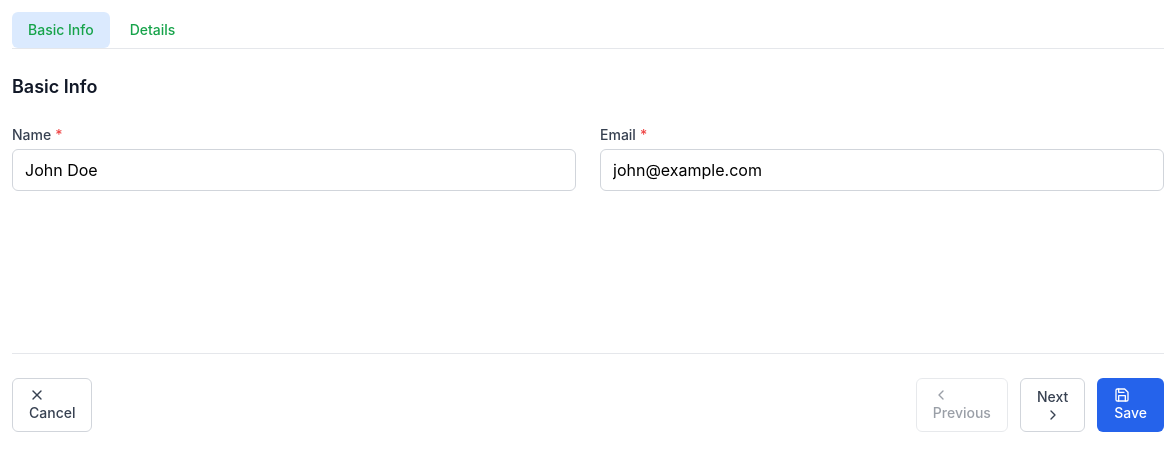
Scenario: TabbedForm › prevents navigation to next tab if current tab has validation errors
Clear the field showing "John Doe" at (294,170), box [12,149,576,191]
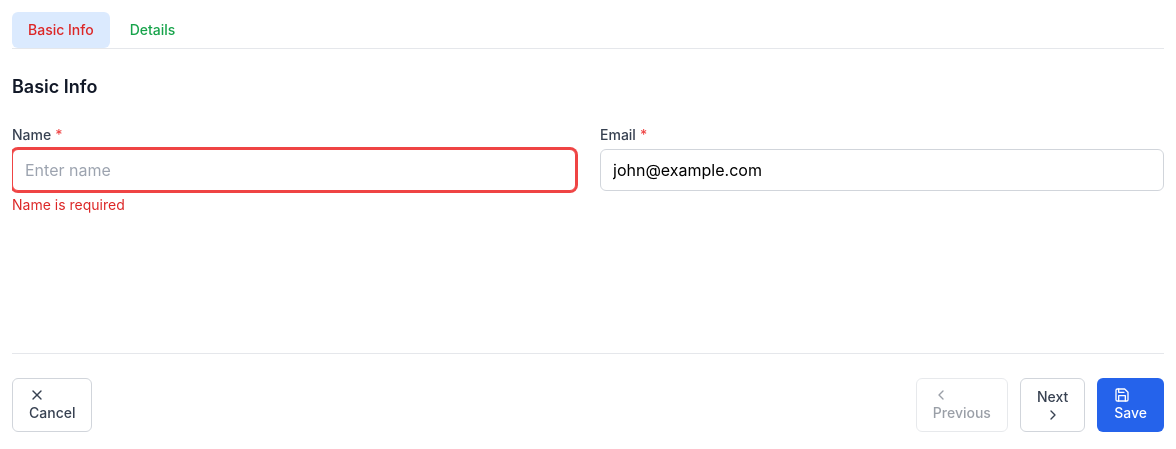
Click the button "Next" at (1053,405), box [1020,378,1085,432]
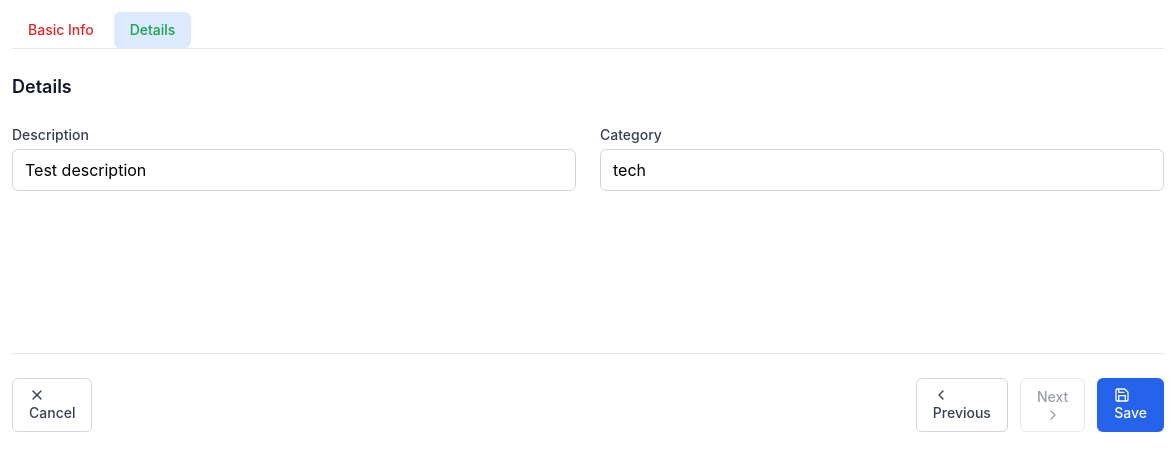
Expected: the heading "Details" is shown, [12,76,72,97]
